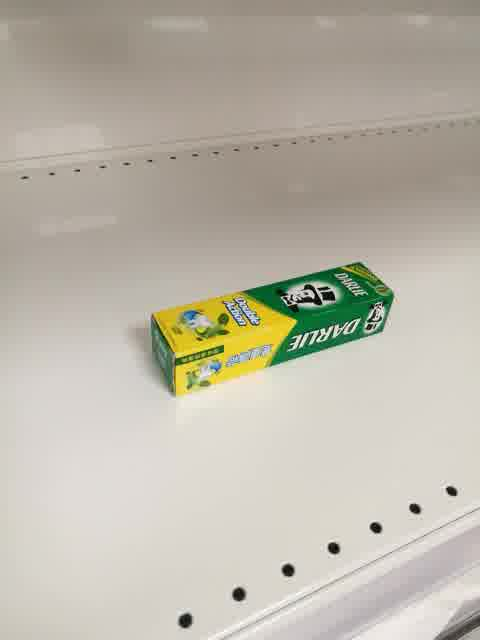toothpaste: (150, 259, 396, 397)
